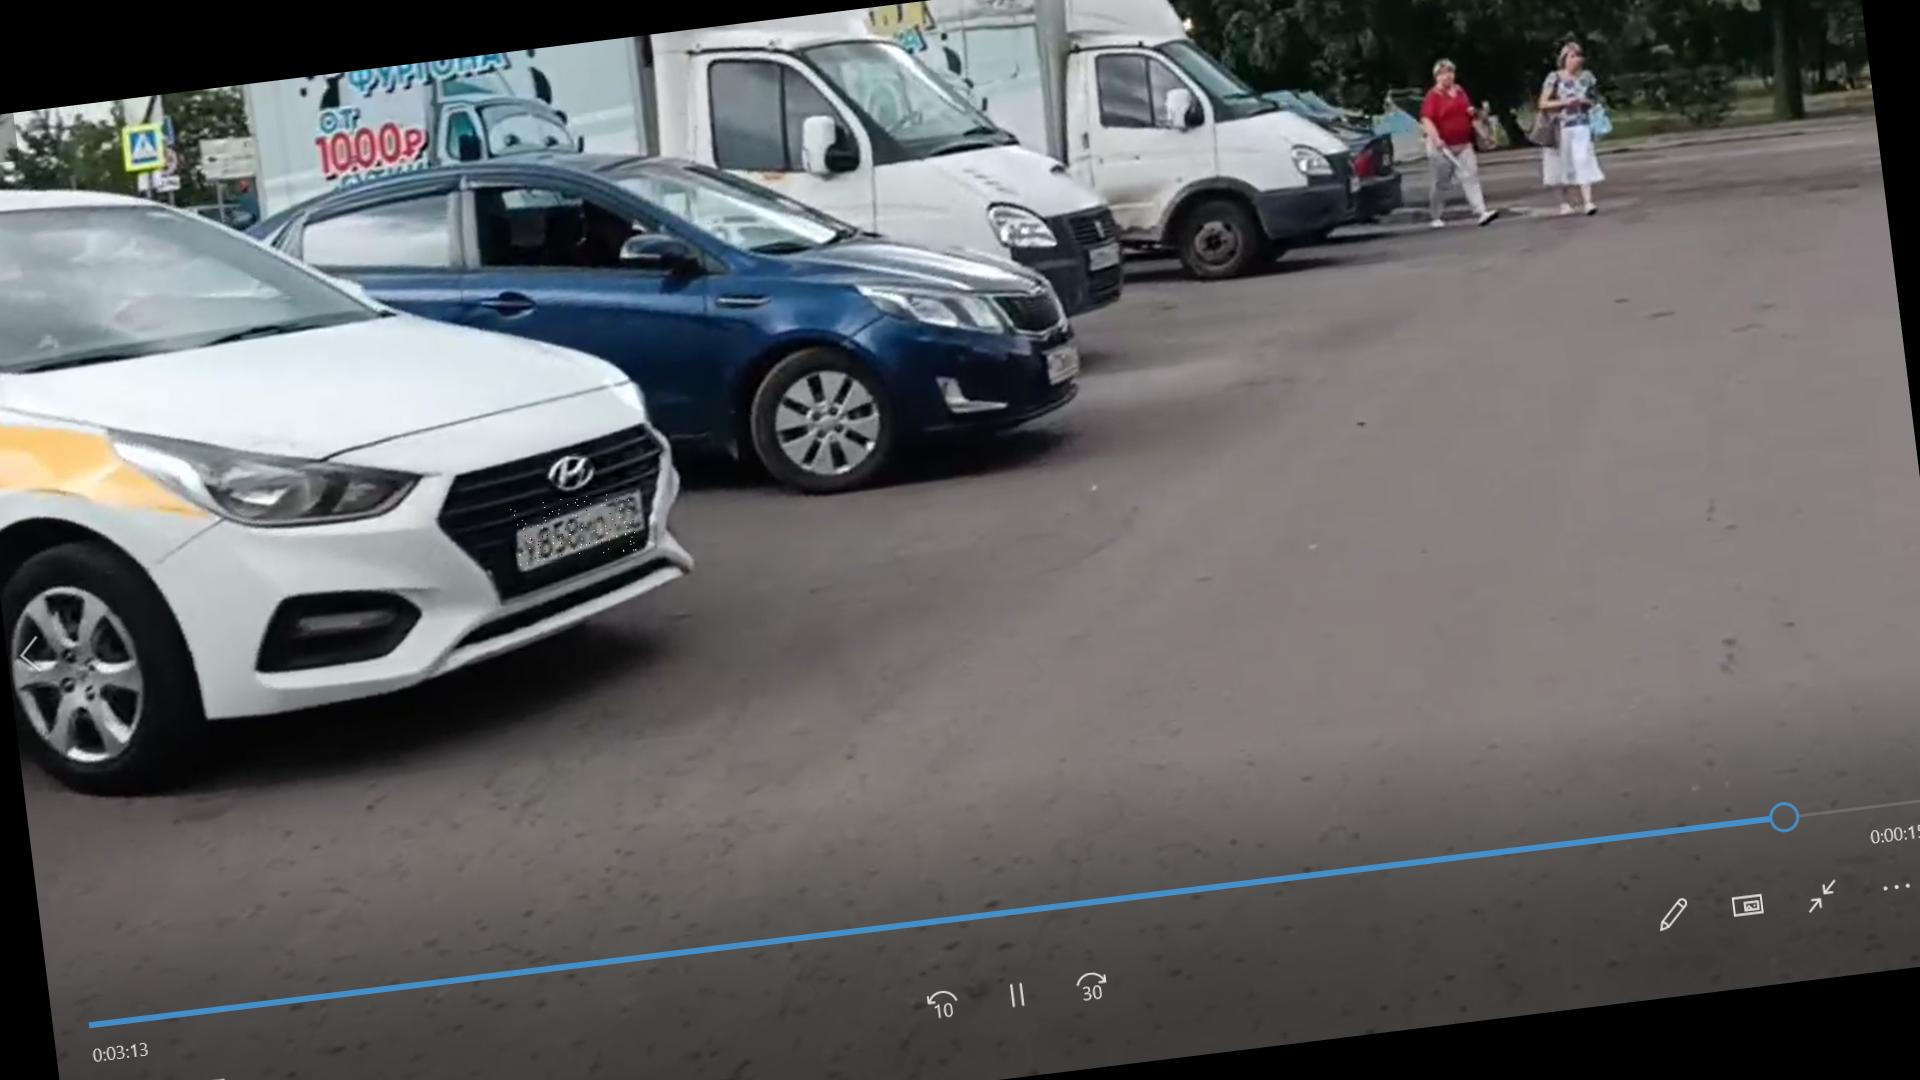plate: (512, 492, 639, 568)
